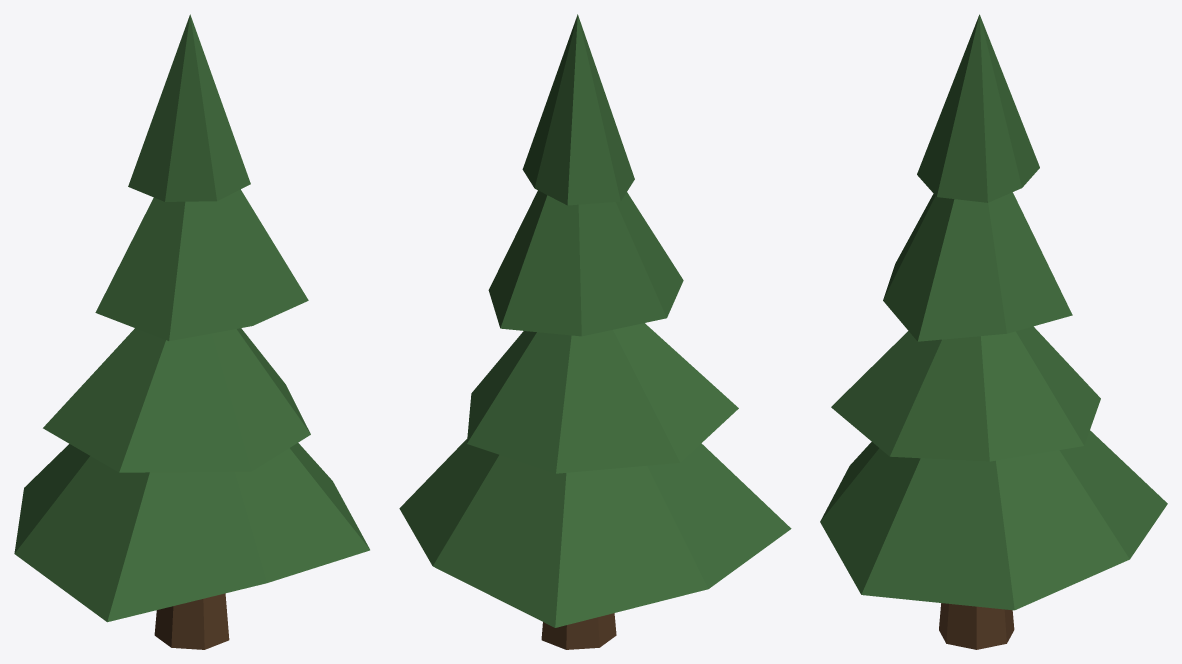
Rendered from forest_conifer_medium_v31.glb.
The picture shows the model from 3 angles, left to right: view 1: azimuth 30°, elevation 25°; view 2: azimuth 150°, elevation 25°; view 3: azimuth 270°, elevation 25°; orthographic projection.
Parts seen in each view (by area): view 1: forest_conifer_medium; view 2: forest_conifer_medium; view 3: forest_conifer_medium.
Boxes of the visible parts, box(x1,y1,x2,y2) form: forest_conifer_medium: box(14, 14, 369, 649); forest_conifer_medium: box(399, 14, 791, 649); forest_conifer_medium: box(820, 14, 1167, 649).
Size of the model in its own units: 1.31 by 2.47 by 1.26.
